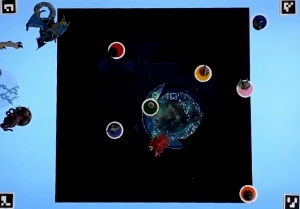blue: (251, 12, 269, 32)
green: (142, 97, 160, 117)
orange: (237, 182, 259, 203)
pink: (237, 77, 257, 100)
red: (108, 38, 130, 62)
violet: (106, 119, 126, 142)
yellow: (194, 62, 215, 85)
